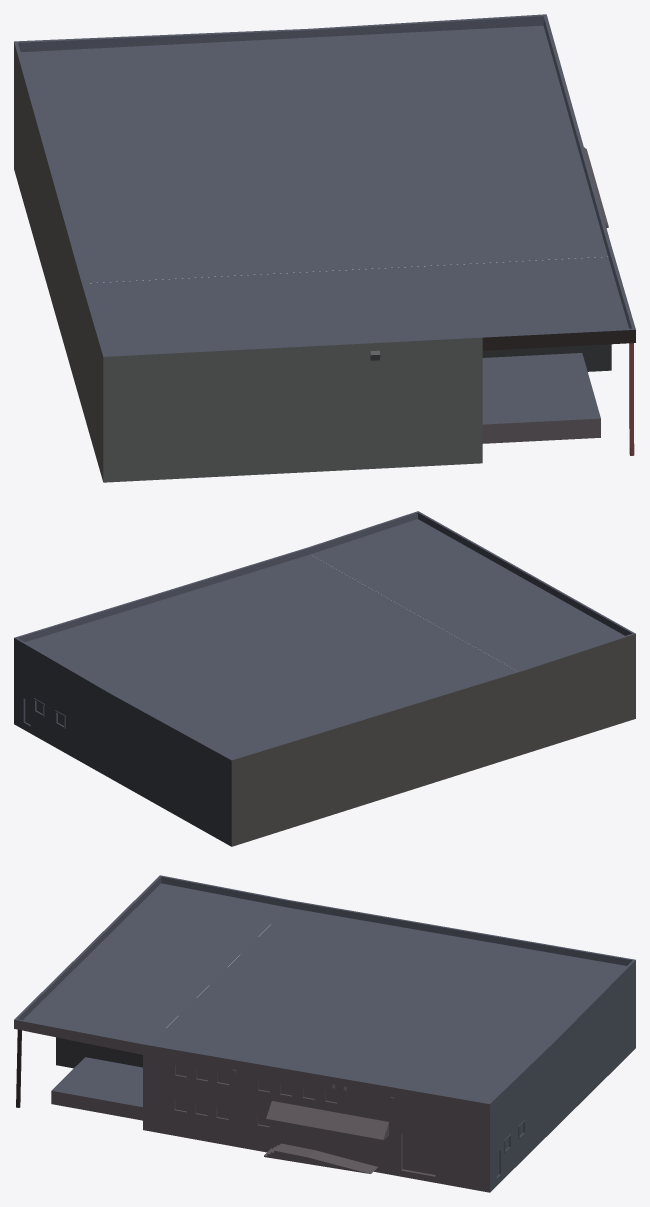
The model's file is 100-west-main.glb.
The picture shows the model from 3 angles, top to bottom: view 1: azimuth 30°, elevation 25°; view 2: azimuth 150°, elevation 25°; view 3: azimuth 270°, elevation 25°; orthographic projection. The views are drawn at different scales.
Visible parts, largest first — view 1: LOD0; view 2: LOD0; view 3: LOD0.
Boxes of the visible parts, x1=… form: LOD0: x1=14, y1=14, x2=635, y2=482; LOD0: x1=14, y1=511, x2=635, y2=846; LOD0: x1=14, y1=875, x2=635, y2=1192.
Size of what is drawn, in the model's own units: 44.9 by 8.12 by 51.23.
1 material, 1 textured.
